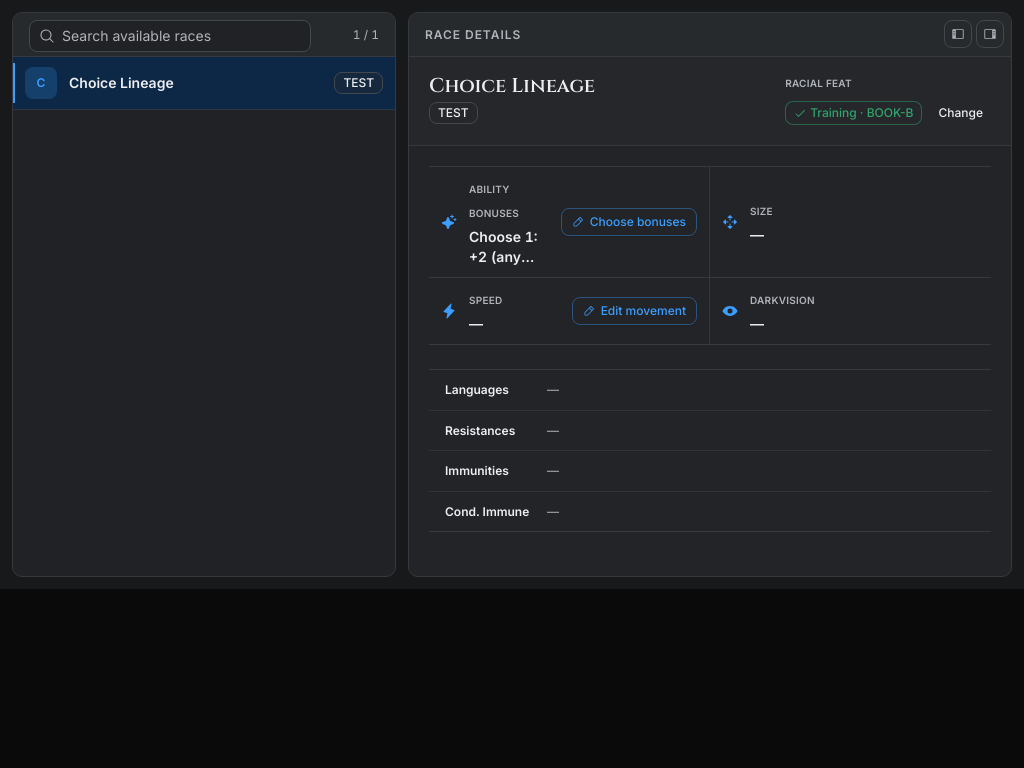
Test: exact saved printing is highlighted; opening, Cancel and unchanged Confirm retain configured owners
The width and height of the screenshot is (1024, 768).
Expected: the text "Training · BOOK-B" is shown, [785, 101, 922, 125]
Click the button "Change" at (961, 113), box [930, 97, 991, 129]
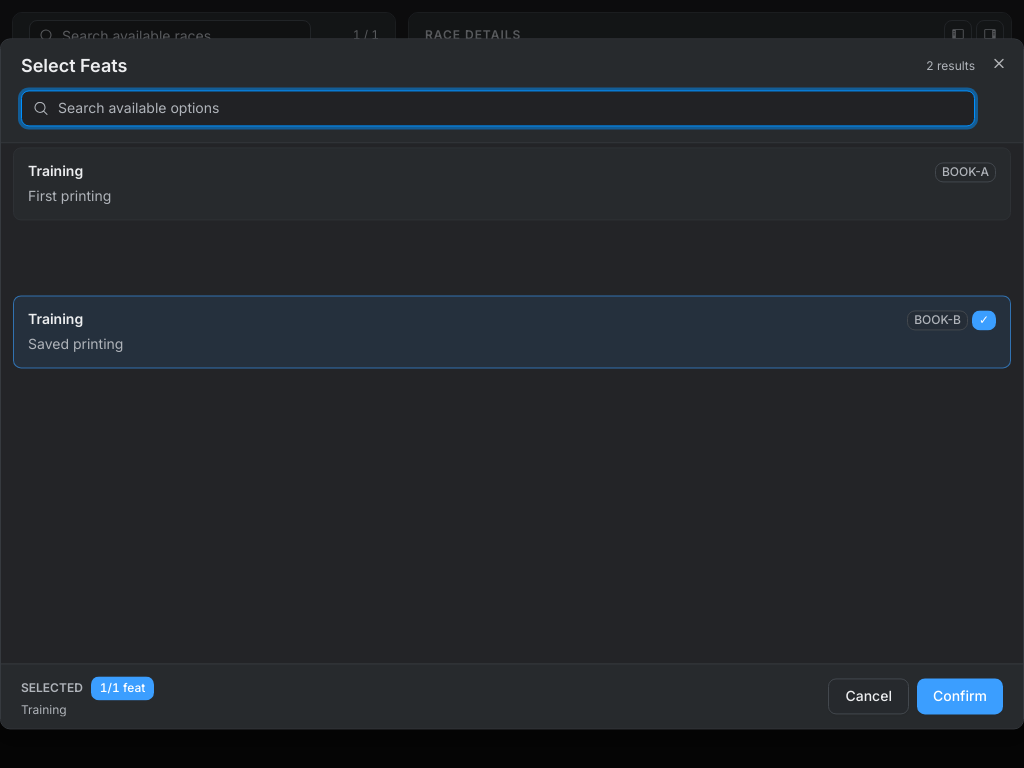
Expected: the text "✓" is shown once, [972, 310, 996, 330]
Expected: the text "Saved printing" shows "✓", [13, 295, 1011, 368]
Click the button "Cancel" at (869, 697), box [828, 679, 909, 715]
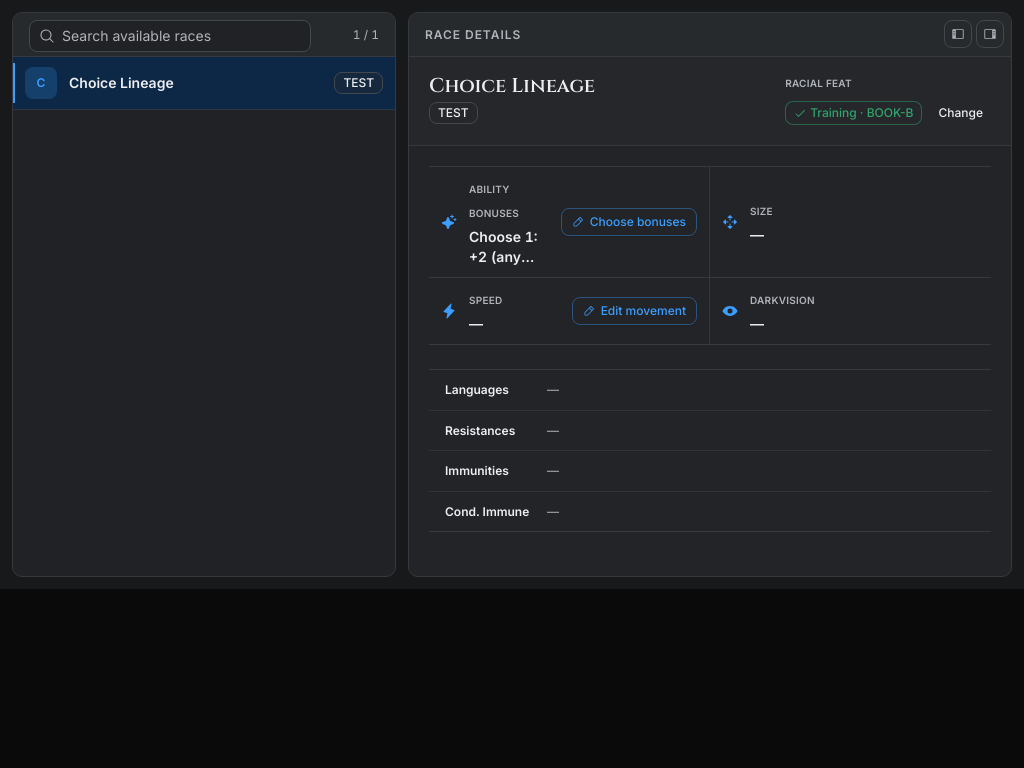
Click the button "Change" at (961, 113), box [930, 97, 991, 129]
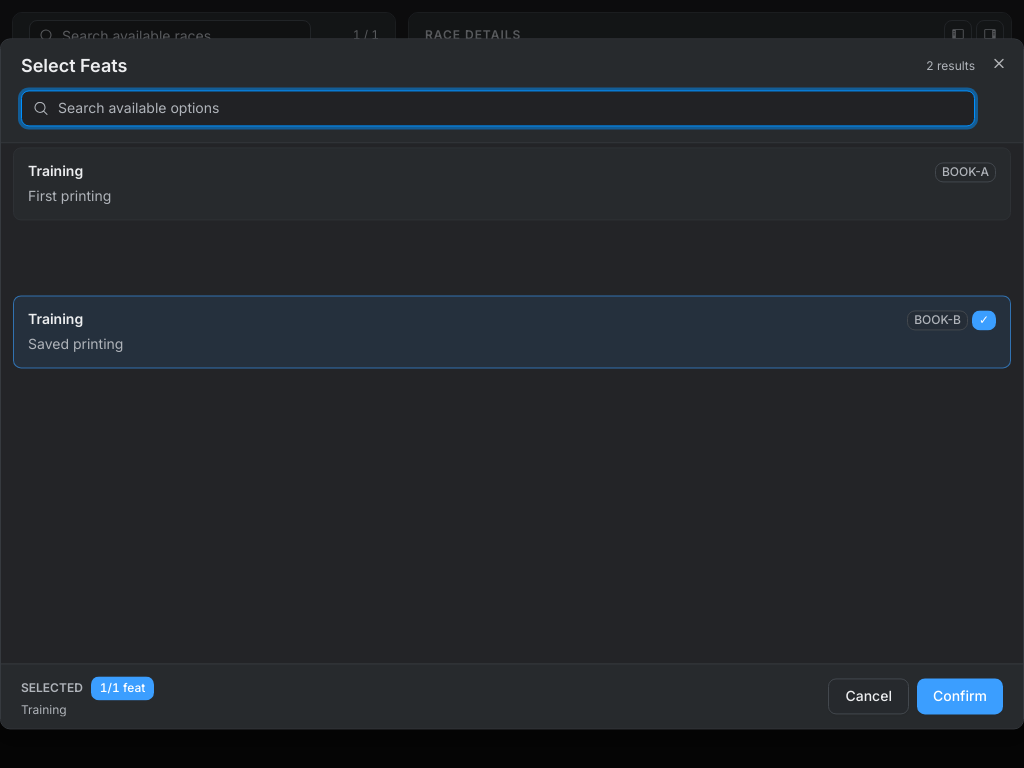
Click the button "Confirm" at (960, 697), box [917, 679, 1003, 715]
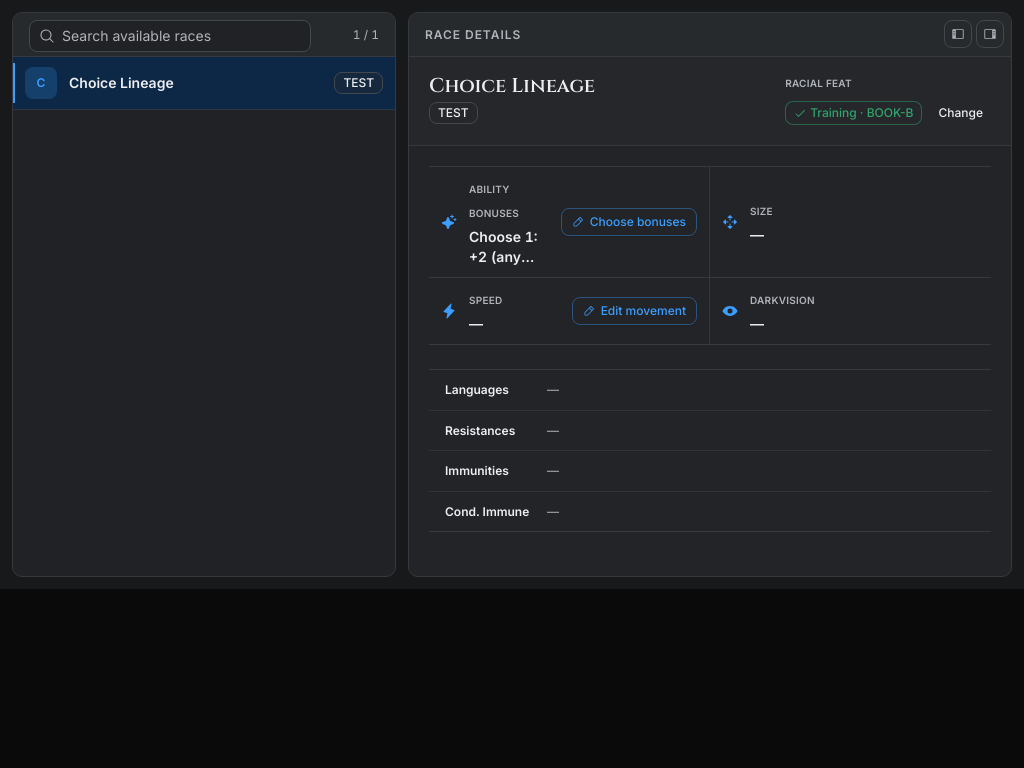
Expected: the dialog is gone
